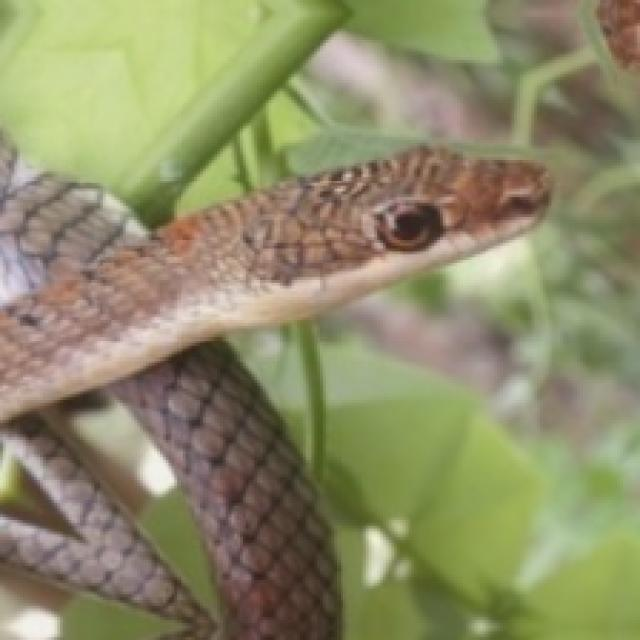paradise tree snake: (0, 0, 546, 637), (26, 383, 220, 606)
